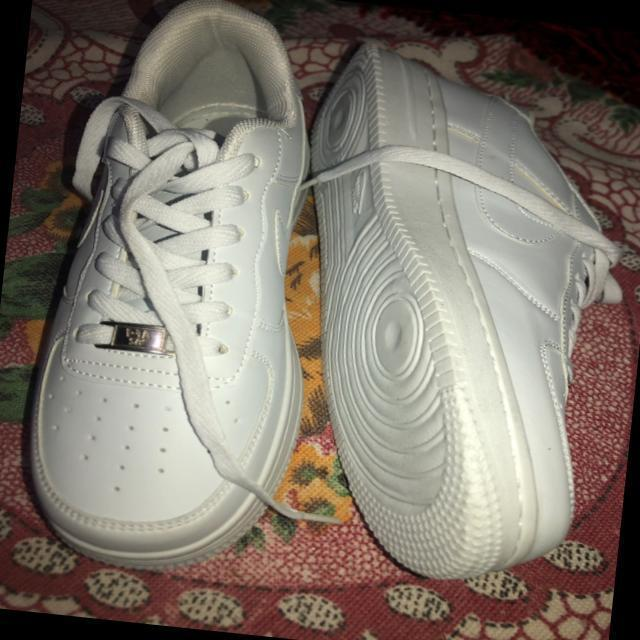nike fake air force: (265, 15, 640, 593), (9, 0, 341, 581)
